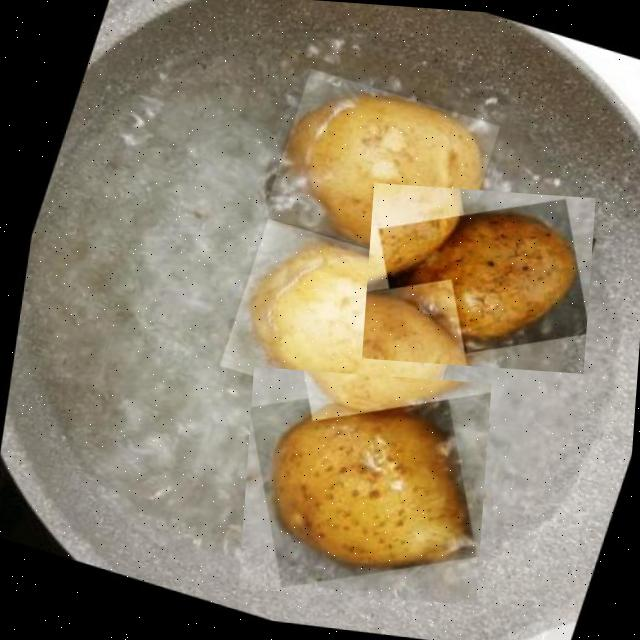Damaged potato: (238, 366, 491, 604), (362, 182, 596, 372)
Potato: (210, 217, 473, 433), (252, 69, 497, 278)
